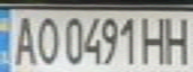0: (60, 14, 84, 65)
1: (118, 14, 142, 65)
4: (81, 14, 103, 65)
9: (100, 14, 121, 65)
A: (6, 11, 39, 66)
H: (139, 12, 172, 65), (160, 12, 193, 65)
O: (33, 12, 60, 66)
